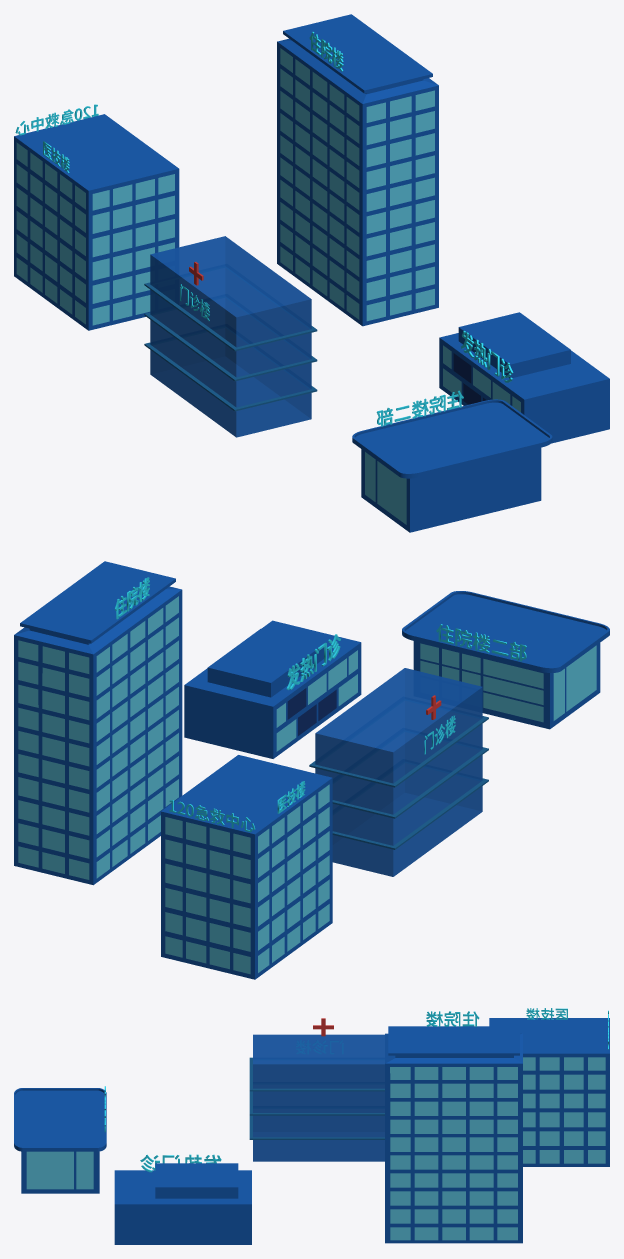
The model's file is hospital.glb.
3 views of the same model, one above another, from view 1: azimuth 30°, elevation 25°; view 2: azimuth 150°, elevation 25°; view 3: azimuth 270°, elevation 25° (orthographic). The views are drawn at different scales.
Visible parts, largest first — view 1: inpatient-second, Cube.008, clinic-building.004, clinic-building.001, fever-clinics, clinic-building.003, clinic-building, building-top.001, building-top, inpatient-building-top1, Cube.007, medical-tech-building.004 (+19 smaller); view 2: fever-clinics, clinic-building.004, Cube.008, clinic-building.001, clinic-building.003, inpatient-second, clinic-building, building-top, building-top.001, inpatient-building-top1, Cube.007, medical-tech-building.005 (+20 smaller); view 3: fever-clinics, clinic-building.004, clinic-building.003, clinic-building.001, clinic-building, Cube.008, building-top, inpatient-building-top1, building-top.001, inpatient-second, Cube.007, inpatient-building.002 (+19 smaller).
Boxes of the visible parts, x1,y1,x2,y2 form: inpatient-second: (361, 447, 541, 532); Cube.008: (352, 399, 552, 478); clinic-building.004: (144, 237, 317, 351); clinic-building.001: (150, 328, 311, 437); fever-clinics: (439, 333, 609, 443); clinic-building.003: (144, 268, 317, 381); clinic-building: (144, 298, 317, 411); building-top.001: (14, 114, 178, 190); building-top: (150, 236, 310, 317); inpatient-building-top1: (283, 14, 432, 93); Cube.007: (458, 312, 570, 378); medical-tech-building.004: (14, 183, 179, 260); fever-clinics: (184, 620, 361, 758); clinic-building.004: (309, 668, 488, 787); Cube.008: (402, 591, 609, 672); clinic-building.001: (332, 764, 482, 876); clinic-building.003: (315, 701, 488, 818); inpatient-second: (413, 641, 600, 729); clinic-building: (332, 732, 488, 849); building-top: (316, 668, 482, 752); building-top.001: (161, 755, 331, 834); inpatient-building-top1: (20, 561, 175, 643); Cube.007: (207, 628, 323, 697); medical-tech-building.005: (161, 802, 332, 882); fever-clinics: (114, 1170, 251, 1244); clinic-building.004: (249, 1035, 384, 1091); clinic-building.003: (249, 1061, 384, 1115); clinic-building.001: (253, 1109, 384, 1161); clinic-building: (249, 1085, 384, 1139); Cube.008: (14, 1088, 106, 1151); building-top: (253, 1034, 384, 1064); inpatient-building-top1: (388, 1026, 519, 1055); building-top.001: (489, 1018, 609, 1053); inpatient-second: (21, 1151, 99, 1193); Cube.007: (155, 1163, 238, 1198); inpatient-building.002: (385, 1207, 522, 1225).
Bounding box in the file's own units: 19.7 × 16.35 × 43.1.
